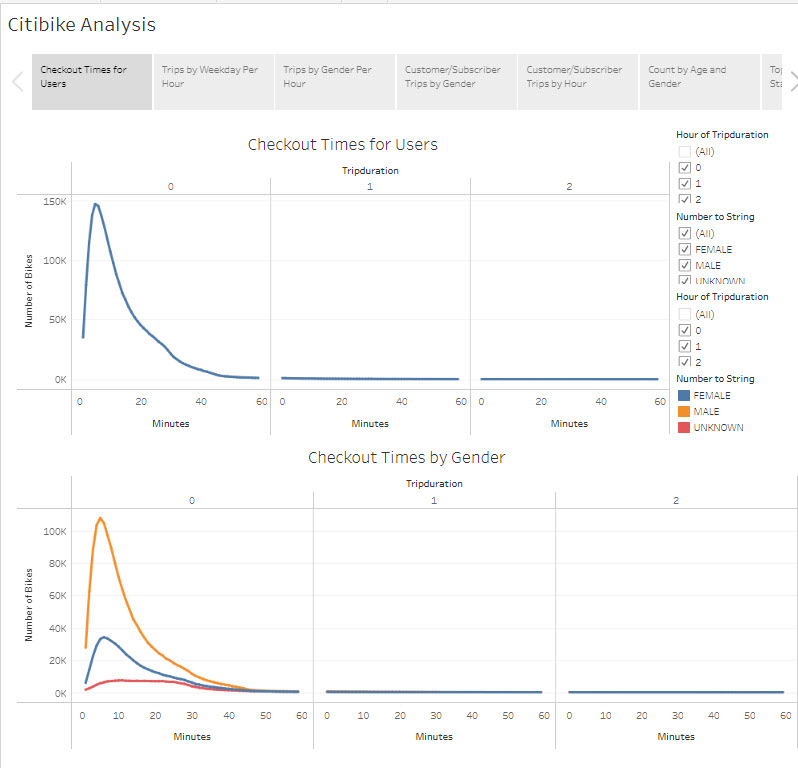

The dashboard page shown, as its layout file describes it:
{"tool":"tableau","page":{"name":"Checkout Times","canvas":[1000,800],"ordinal":0},"visuals":[{"type":"worksheet","title":"Checkout Times for Users","mark":"Line","rows":["new_citidata.csv_2092E5977E0D40EE955A89803B8F2B2F"],"cols":["tripduration","tripduration"],"box":[8,8,824,392]},{"type":"filter","title":"Checkout Times for Users","param":"[federated.0oyse0e0kn00c418yci4800ggdbp].[hr:tripduration:ok]","box":[832,8,160,102]},{"type":"filter","title":"Checkout Times by Gender","param":"[federated.0oyse0e0kn00c418yci4800ggdbp].[none:Calculation_64457821157535745:nk]","box":[832,110,160,102]},{"type":"filter","title":"Checkout Times by Gender","param":"[federated.0oyse0e0kn00c418yci4800ggdbp].[hr:tripduration:ok]","box":[832,212,160,102]},{"type":"legend","title":"Checkout Times by Gender","param":"[federated.0oyse0e0kn00c418yci4800ggdbp].[none:Calculation_64457821157535745:nk]","box":[832,314,160,86]},{"type":"worksheet","title":"Checkout Times by Gender","mark":"Line","rows":["new_citidata.csv_2092E5977E0D40EE955A89803B8F2B2F"],"cols":["tripduration","tripduration"],"box":[8,400,984,392]}]}

Visuals, with their boxes on the page's 1000x800 design canvas (x1, y1, x2, y2). These are canvas units, not pixel positions in the 798x768 screenshot, which may show the page scaled, cropped or inside an application window:
"Checkout Times for Users" worksheet (Line marks): [left=8, top=8, right=832, bottom=400]
"Checkout Times for Users" filter: [left=832, top=8, right=992, bottom=110]
"Checkout Times by Gender" filter: [left=832, top=110, right=992, bottom=212]
"Checkout Times by Gender" filter: [left=832, top=212, right=992, bottom=314]
"Checkout Times by Gender" legend: [left=832, top=314, right=992, bottom=400]
"Checkout Times by Gender" worksheet (Line marks): [left=8, top=400, right=992, bottom=792]
